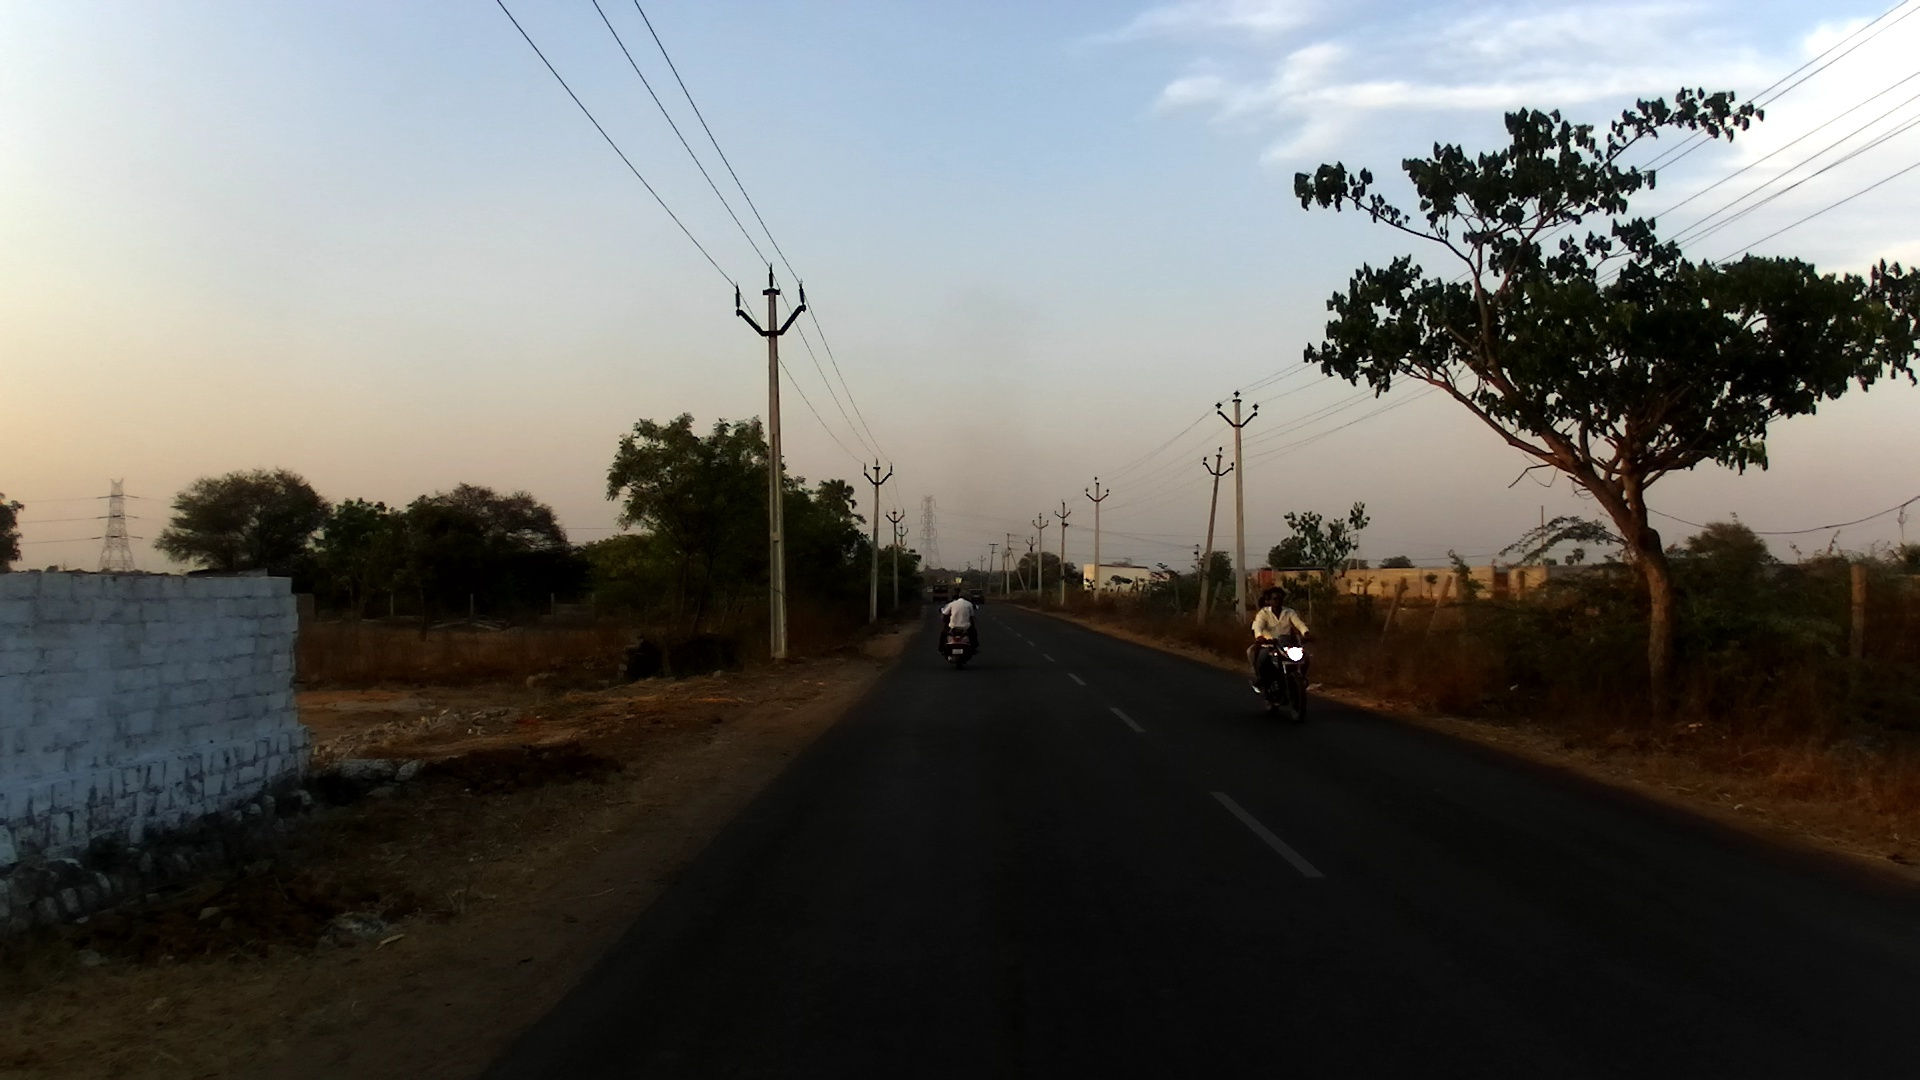autorickshaw: (930, 579, 951, 608)
car: (969, 589, 987, 602), (925, 585, 935, 594)
motorcycle: (1247, 629, 1317, 729), (940, 601, 981, 665)
rider: (1251, 588, 1311, 713), (1247, 588, 1280, 691), (938, 587, 985, 658), (943, 588, 963, 639)
